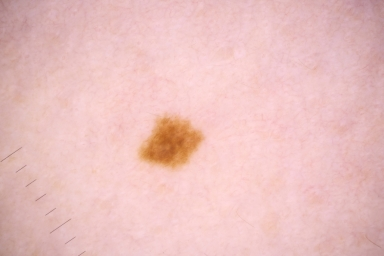melanoma: (140, 117, 206, 167)
